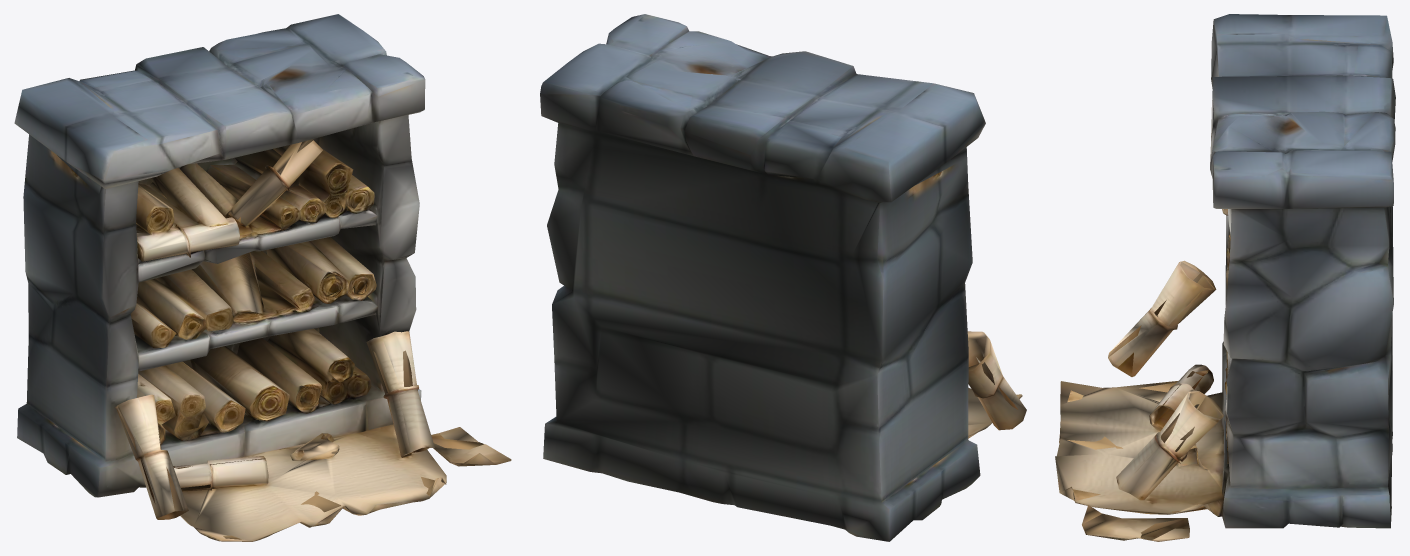
The model's file is scrollshelf.opt.glb.
The picture shows the model from 3 angles, left to right: view 1: azimuth 30°, elevation 25°; view 2: azimuth 150°, elevation 25°; view 3: azimuth 270°, elevation 25°; orthographic projection. The views are drawn at different scales.
Parts seen in each view (by area): view 1: node_0; view 2: node_0; view 3: node_0.
Boxes of the visible parts, bbox=[...] form: node_0: bbox=[14, 14, 511, 541]; node_0: bbox=[540, 14, 1026, 541]; node_0: bbox=[1055, 14, 1395, 541].
Size of the model in its own units: 0.752 by 0.7351 by 0.6304.
1 material, 1 textured.
